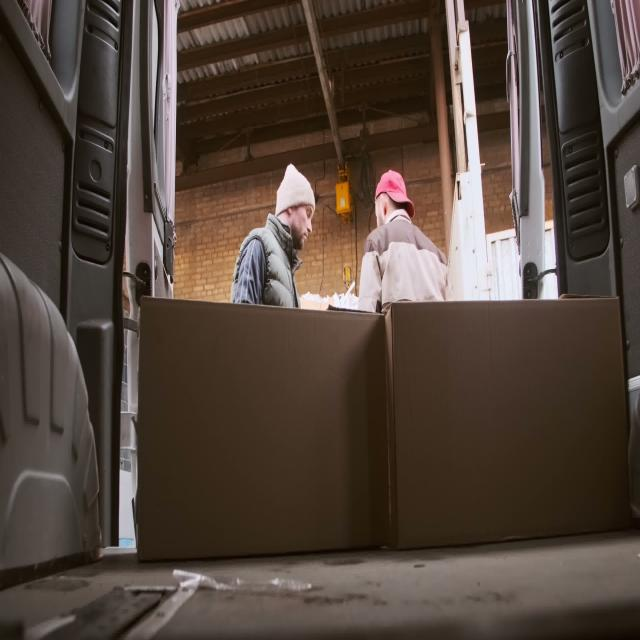counting-the-number-of-boxes: (138, 297, 392, 563), (386, 297, 633, 552)
